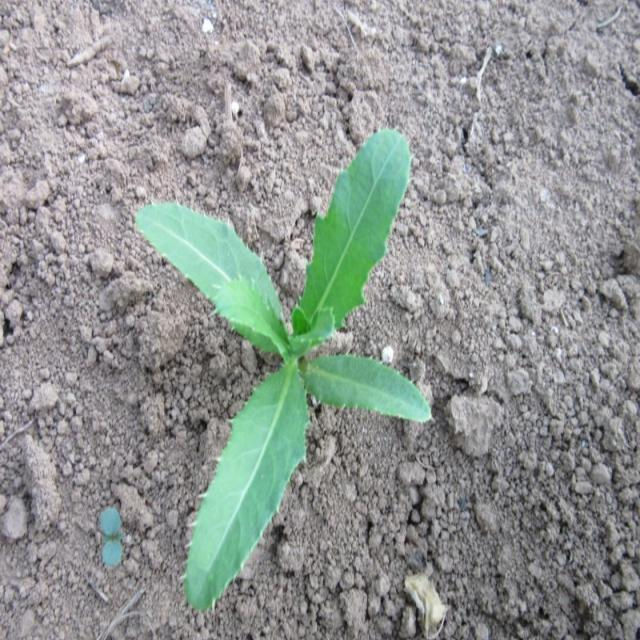cs: (135, 126, 432, 616)
